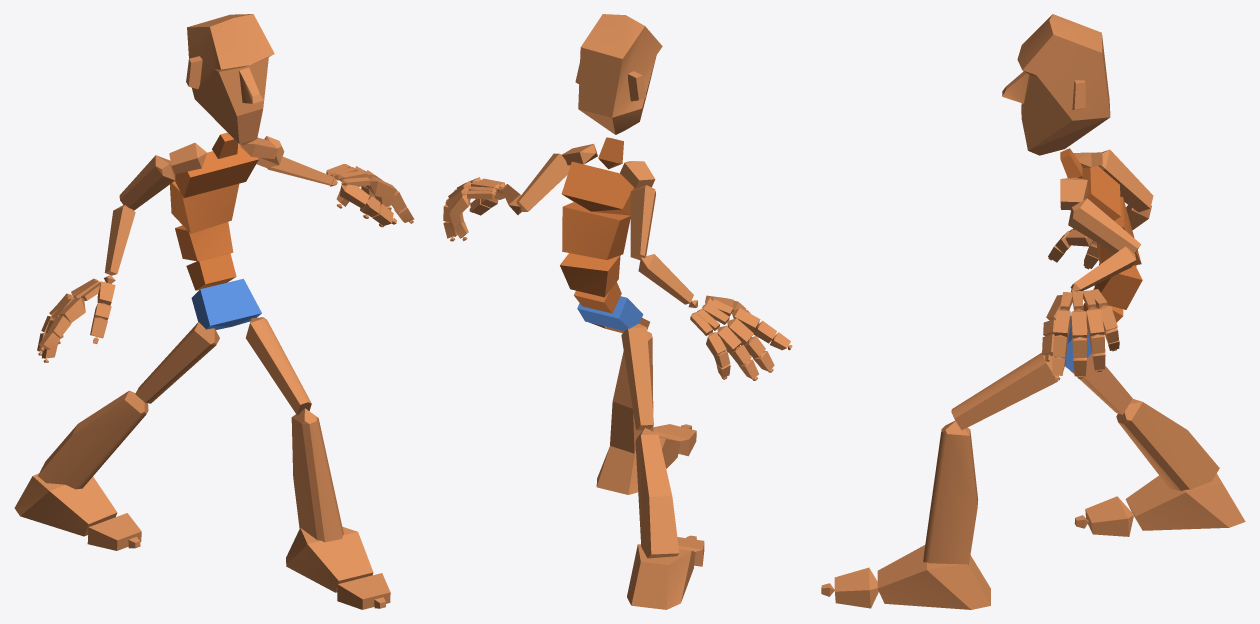
3 views of the same model, side by side, from view 1: azimuth 30°, elevation 25°; view 2: azimuth 150°, elevation 25°; view 3: azimuth 270°, elevation 25° (orthographic). The views are drawn at different scales.
Parts seen in each view (by area): view 1: BOPED_Head, BOPED_R_leg, BOPED_L_leg, BOPED_R_foot, BOPED_R_foot01, Bone01, BOPED_R_legup, BOPED_L_legup, Bone04, Bone05, Bone03, BOPED_R_arm_upper (+7 smaller); view 2: BOPED_Head, BOPED_R_leg, BOPED_R_foot, Bone04, Bone05, BOPED_R_legup, BOPED_L_leg, BOPED_R_foot01, Bone03, BOPED_R_arm_upper, BOPED_L_arm_upper, Bone01 (+6 smaller); view 3: BOPED_Head, BOPED_L_leg, BOPED_R_foot01, BOPED_R_leg, BOPED_R_foot, BOPED_L_legup, BOPED_L_arm_upper, BOPED_R_foot_toe01, BOPED_R_arm_upper, BOPED_R_foot_toe04, BOPED_R_legup, Bone05 (+4 smaller).
Boxes of the visible parts, <box> form: BOPED_Head: <box>186,14,274,145</box>; BOPED_R_leg: <box>38,390,148,489</box>; BOPED_L_leg: <box>291,408,343,542</box>; BOPED_R_foot: <box>14,473,117,536</box>; BOPED_R_foot01: <box>286,526,373,592</box>; Bone01: <box>191,278,261,329</box>; BOPED_R_legup: <box>135,322,219,403</box>; BOPED_L_legup: <box>246,317,311,415</box>; Bone04: <box>170,181,239,233</box>; Bone05: <box>175,144,258,197</box>; Bone03: <box>175,222,233,261</box>; BOPED_R_arm_upper: <box>119,155,175,210</box>; BOPED_Head: <box>575,14,662,134</box>; BOPED_R_leg: <box>635,428,679,558</box>; BOPED_R_foot: <box>627,544,695,609</box>; Bone04: <box>562,202,630,259</box>; Bone05: <box>561,161,636,215</box>; BOPED_R_legup: <box>621,323,653,430</box>; BOPED_L_leg: <box>610,331,653,453</box>; BOPED_R_foot01: <box>596,436,680,494</box>; Bone03: <box>560,253,620,297</box>; BOPED_R_arm_upper: <box>630,185,655,259</box>; BOPED_L_arm_upper: <box>516,153,570,211</box>; Bone01: <box>577,296,643,330</box>; BOPED_Head: <box>1002,14,1110,155</box>; BOPED_L_leg: <box>923,420,978,565</box>; BOPED_R_foot01: <box>877,545,990,609</box>; BOPED_R_leg: <box>1116,399,1219,490</box>; BOPED_R_foot: <box>1125,473,1245,530</box>; BOPED_L_legup: <box>951,352,1058,430</box>; BOPED_L_arm_upper: <box>1068,198,1140,253</box>; BOPED_R_foot_toe01: <box>1085,496,1133,536</box>; BOPED_R_arm_upper: <box>1098,149,1153,212</box>; BOPED_R_foot_toe04: <box>834,567,878,608</box>; BOPED_R_legup: <box>1070,354,1132,414</box>; Bone05: <box>1081,166,1120,220</box>.
Size of the model in its own units: 130 by 178 by 123.
